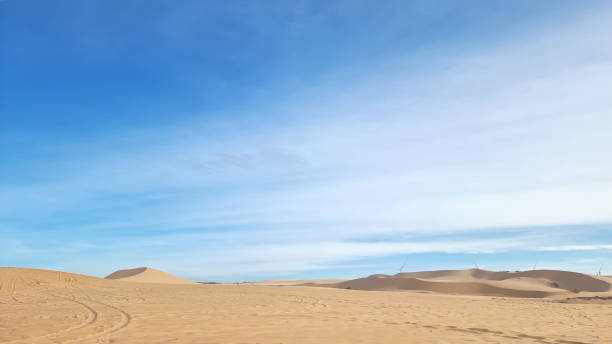vehicle_track: (3, 290, 131, 343), (383, 319, 588, 343), (3, 292, 97, 343), (404, 322, 588, 343), (64, 298, 131, 342), (76, 287, 131, 332), (47, 293, 97, 330), (92, 300, 131, 333), (11, 276, 46, 303), (101, 303, 131, 333), (79, 288, 130, 302), (73, 286, 116, 300), (288, 295, 326, 307), (19, 276, 47, 292), (9, 278, 21, 303), (10, 294, 21, 303), (0, 282, 4, 294), (0, 299, 7, 303), (0, 282, 3, 291)
